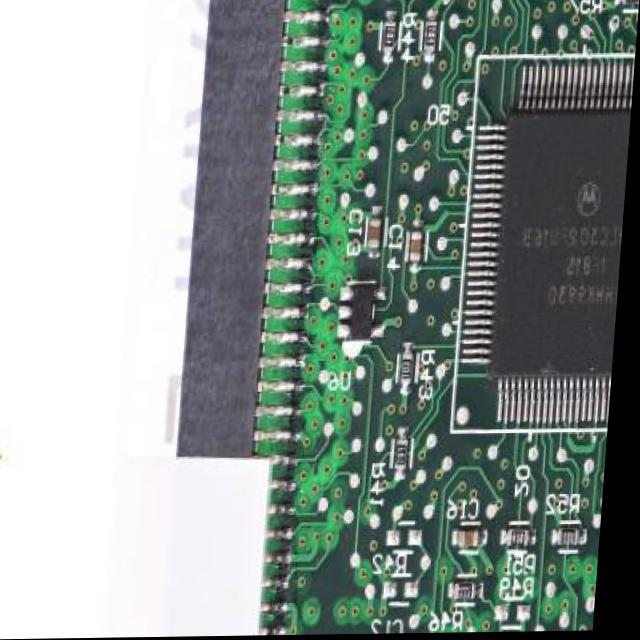IC: (496, 111, 633, 379), (353, 284, 379, 345)
capacitor: (466, 529, 491, 550), (370, 219, 385, 252), (413, 231, 427, 264)
resistor: (401, 441, 415, 474), (404, 355, 418, 388), (565, 529, 588, 549), (463, 582, 486, 602), (515, 530, 538, 549), (383, 21, 396, 54), (424, 21, 437, 53), (622, 0, 640, 8)
